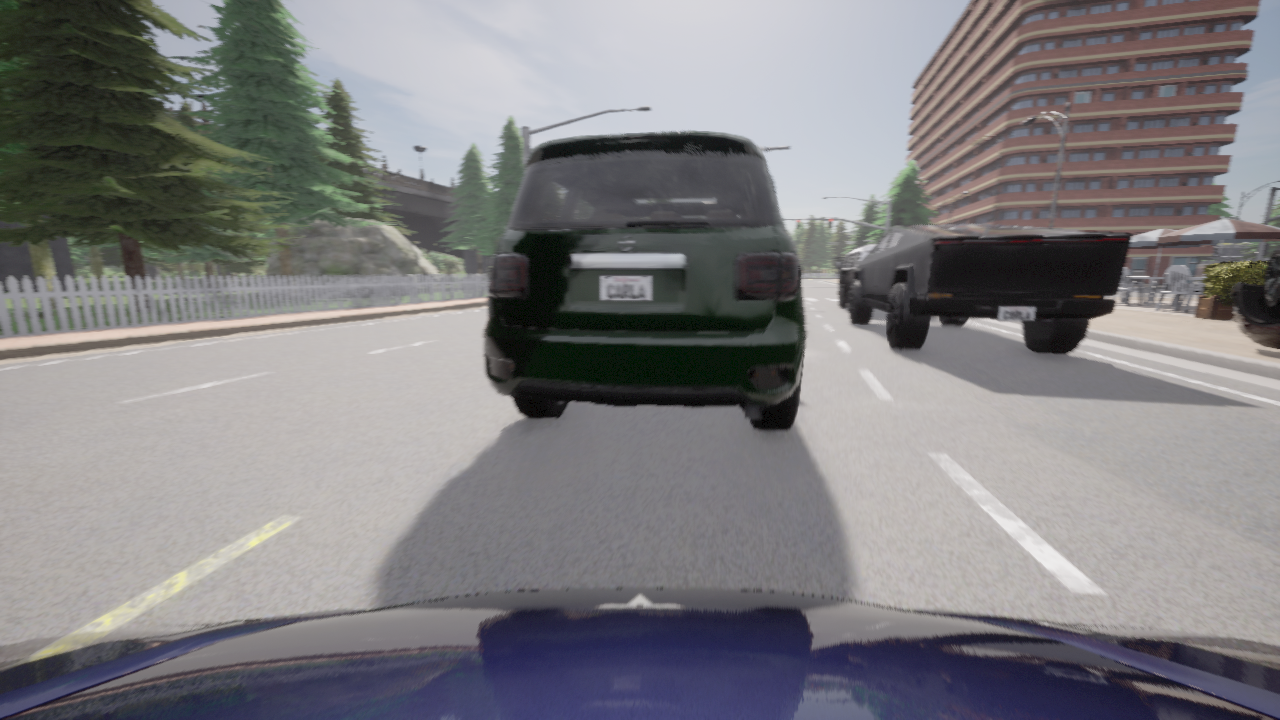cyclist: (0, 588, 1279, 719), (483, 131, 805, 429), (849, 225, 1131, 354), (1232, 247, 1279, 349), (836, 244, 876, 310)
